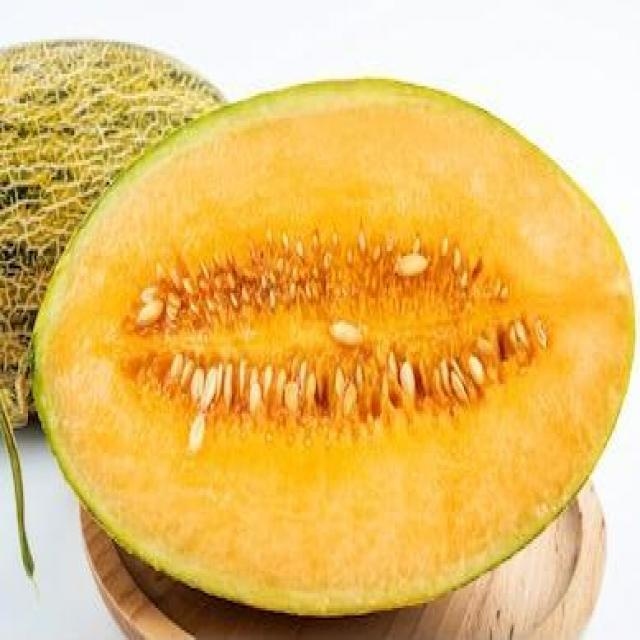Hami Melon: (37, 76, 634, 616)
